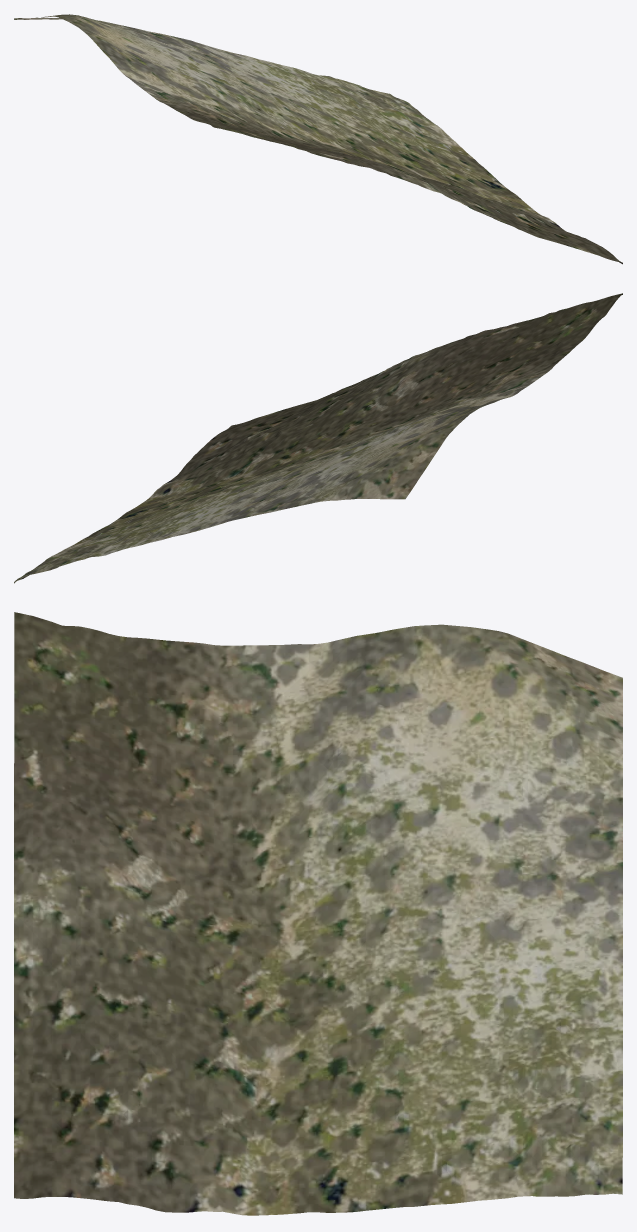
3 views of the same model, one above another, from view 1: azimuth 30°, elevation 25°; view 2: azimuth 150°, elevation 25°; view 3: azimuth 270°, elevation 25° (orthographic). The views are drawn at different scales.
Bounding box in the file's own units: 250 × 148 × 241.
1 material, 1 textured.
